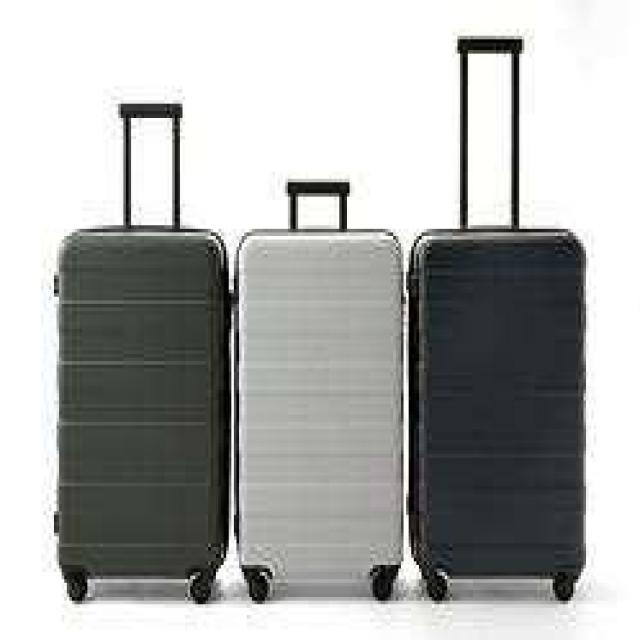luggage: (46, 218, 235, 606), (406, 222, 594, 608), (229, 222, 412, 602)
